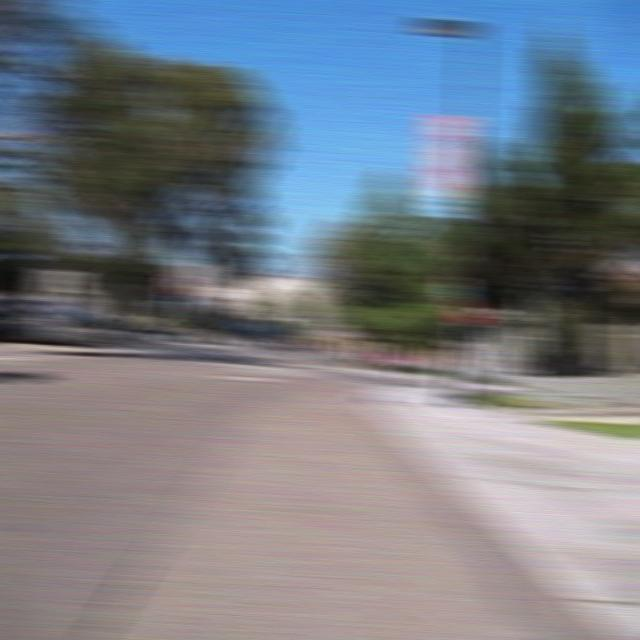stop: (450, 296, 488, 327)
